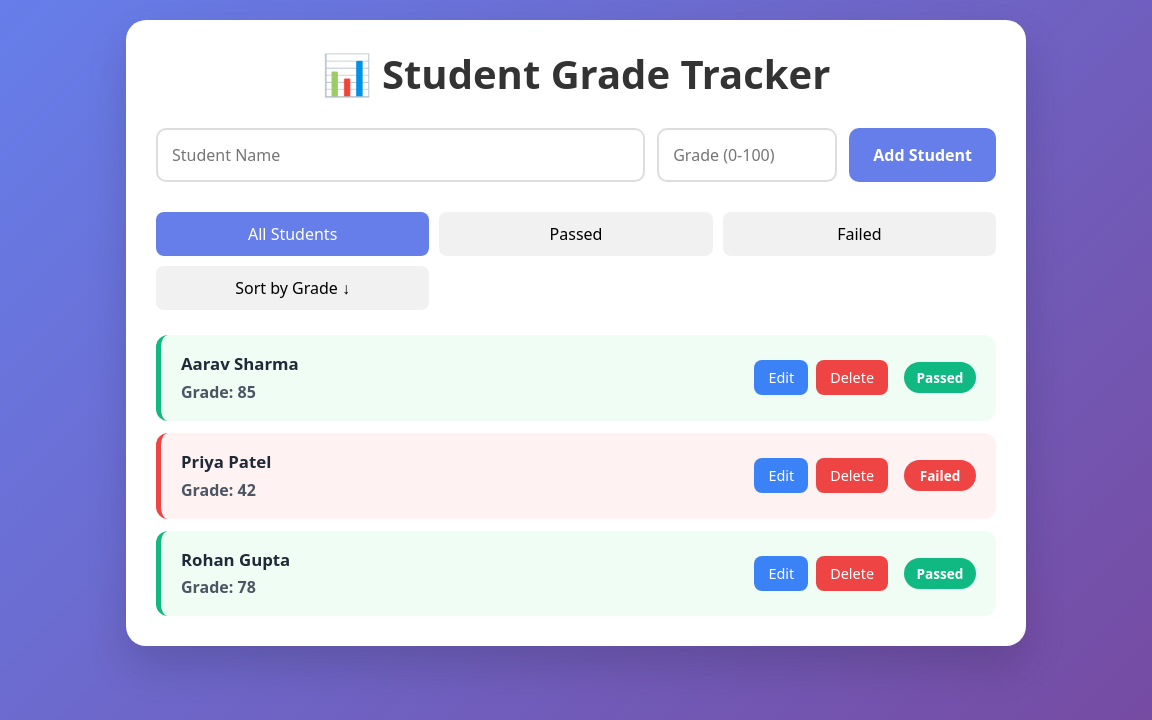
Scenario: Student Grade Tracker › rejects grade above 100
In the field labelled "Student Name": point(401, 155) [156,128,645,182], type "Invalid Student"
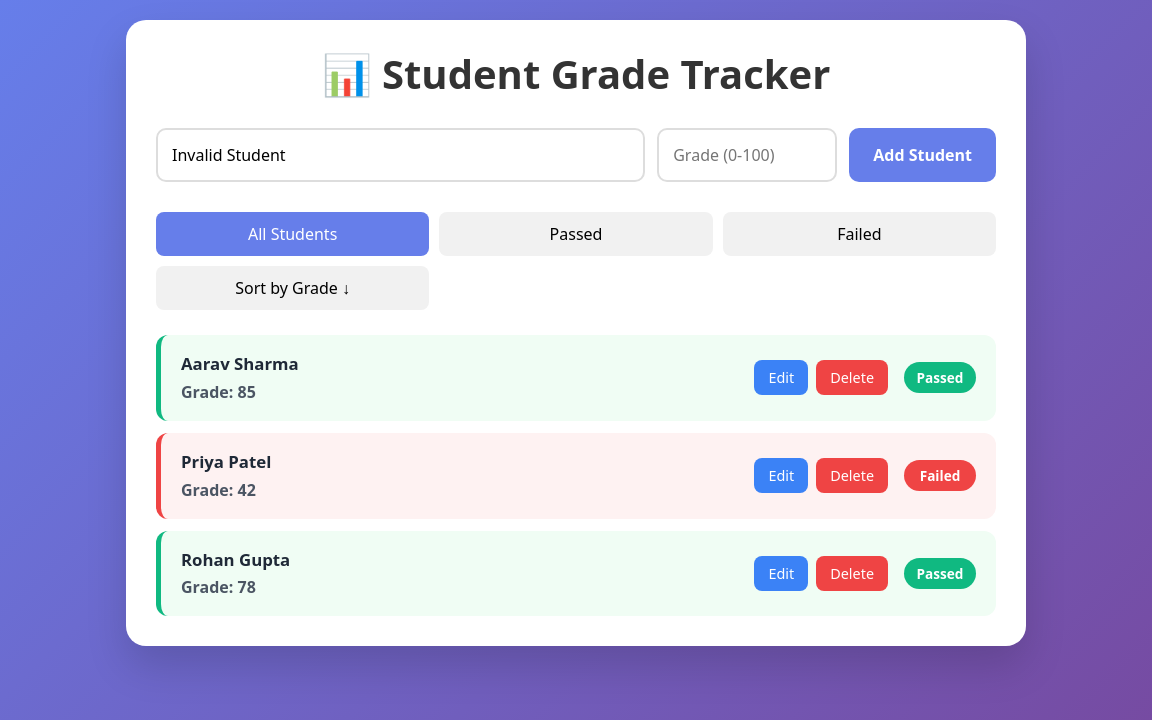
In the number field labelled "Grade": point(747, 155) [657,128,837,182], type "150"
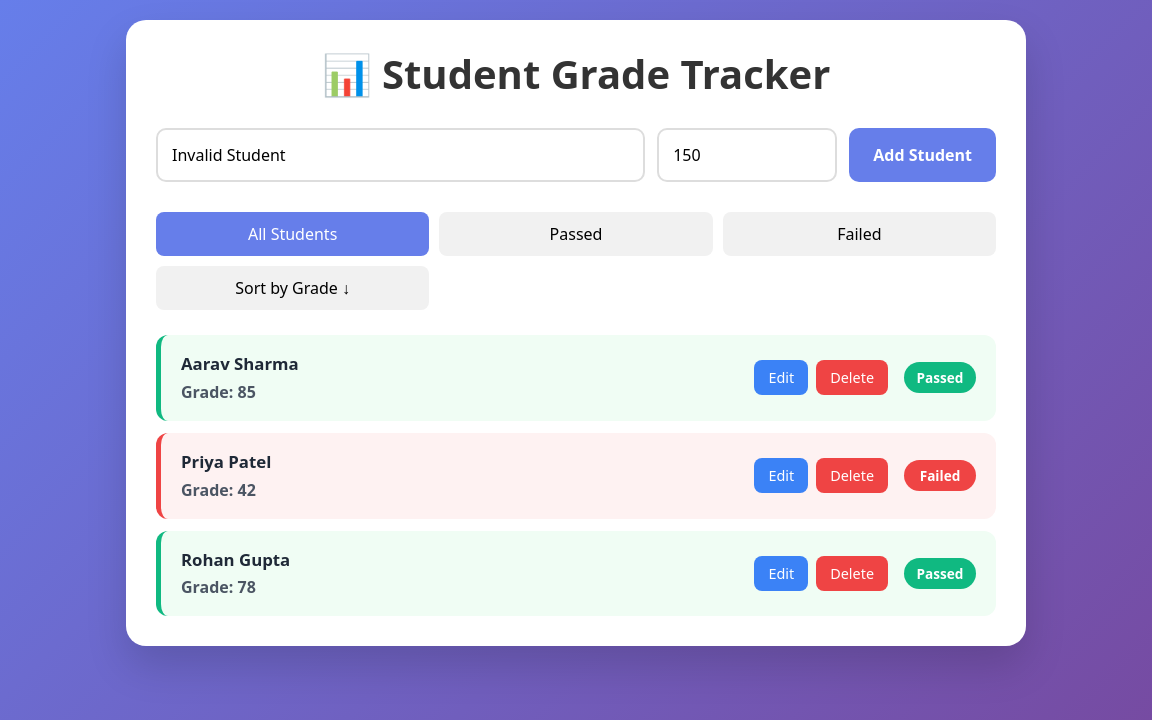
Click the button "Add Student": point(923, 155) [849,128,996,182]
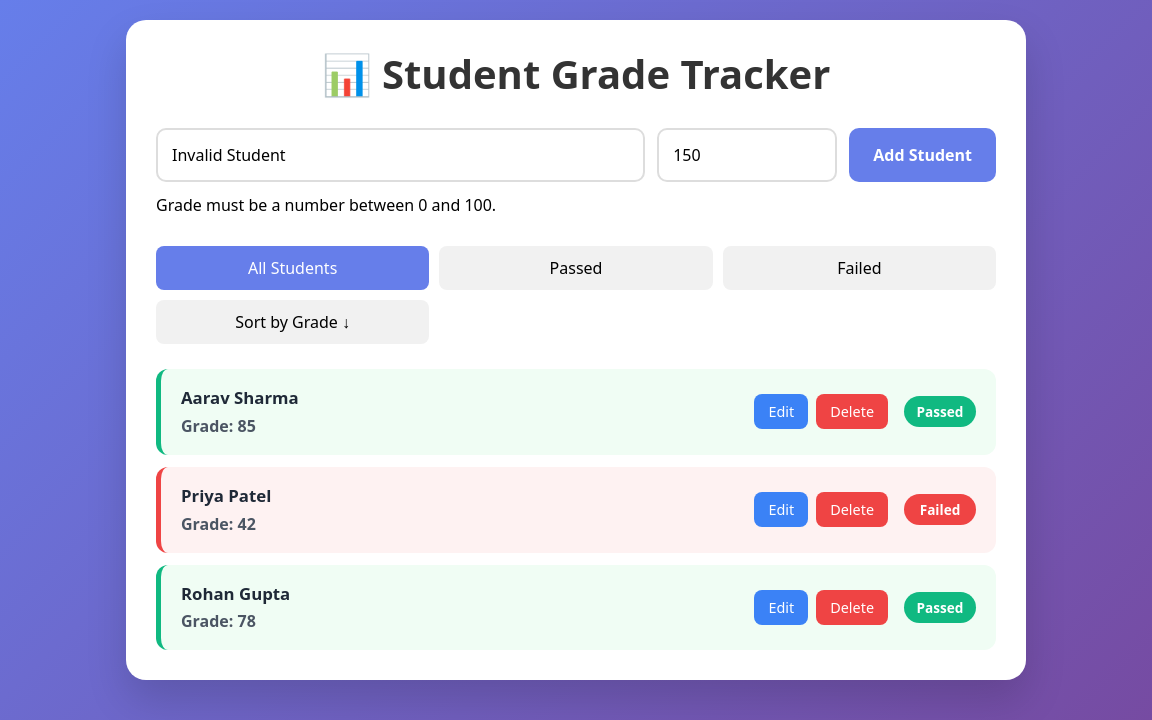
Check: the message reads "Grade must be a number between 0 and 100.", box [156,194,496,216]
